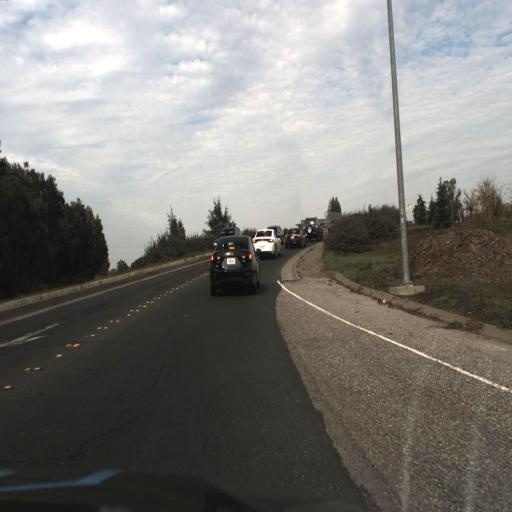car: (207, 234, 262, 297), (252, 224, 283, 258), (301, 211, 323, 243), (283, 226, 303, 253)
